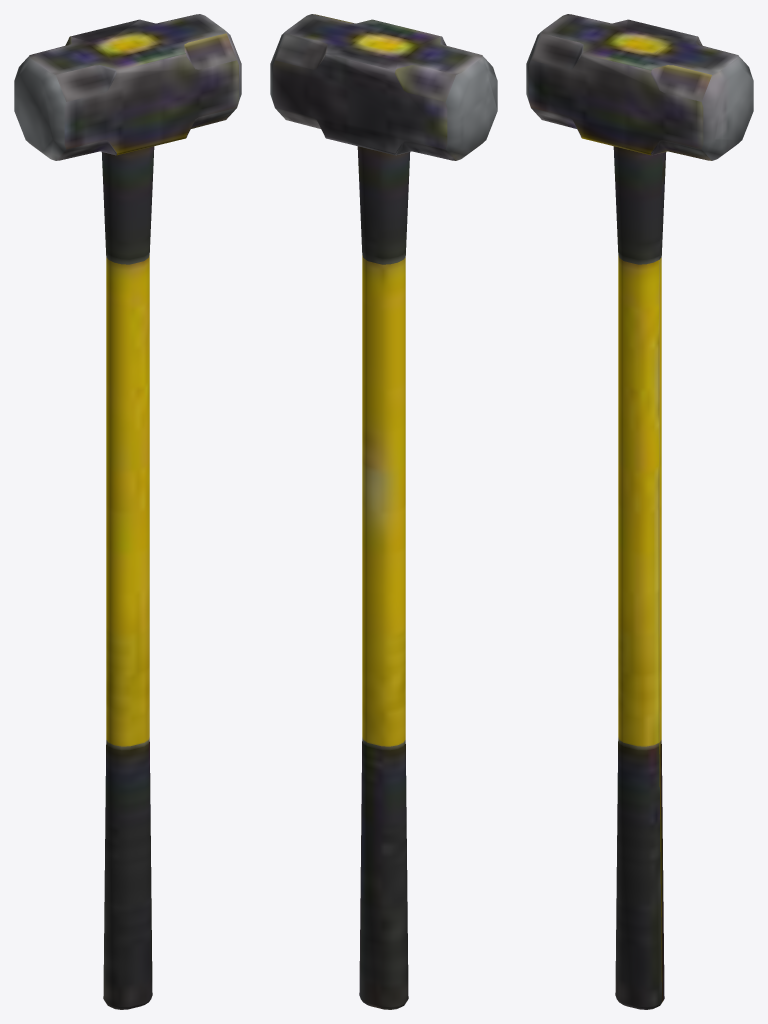
3 views of the same model, side by side, from view 1: azimuth 30°, elevation 25°; view 2: azimuth 150°, elevation 25°; view 3: azimuth 330°, elevation 25° (orthographic).
Parts seen in each view (by area): view 1: sledgehammer_01; view 2: sledgehammer_01; view 3: sledgehammer_01.
Boxes of the visible parts, bbox=[...] form: sledgehammer_01: bbox=[14, 14, 241, 1009]; sledgehammer_01: bbox=[270, 14, 497, 1009]; sledgehammer_01: bbox=[526, 14, 753, 1009].
Size of the model in its own units: 0.2079 by 1 by 0.0905.
Materials: 1 (1 with a texture image).
